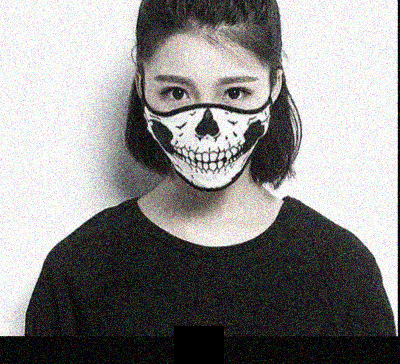with_mask: (141, 71, 273, 191)
